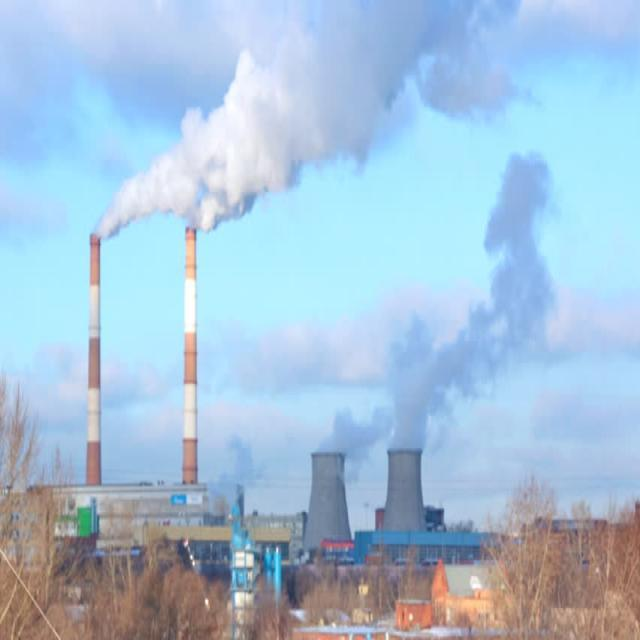Smoke: (94, 0, 544, 243), (317, 152, 560, 488)
